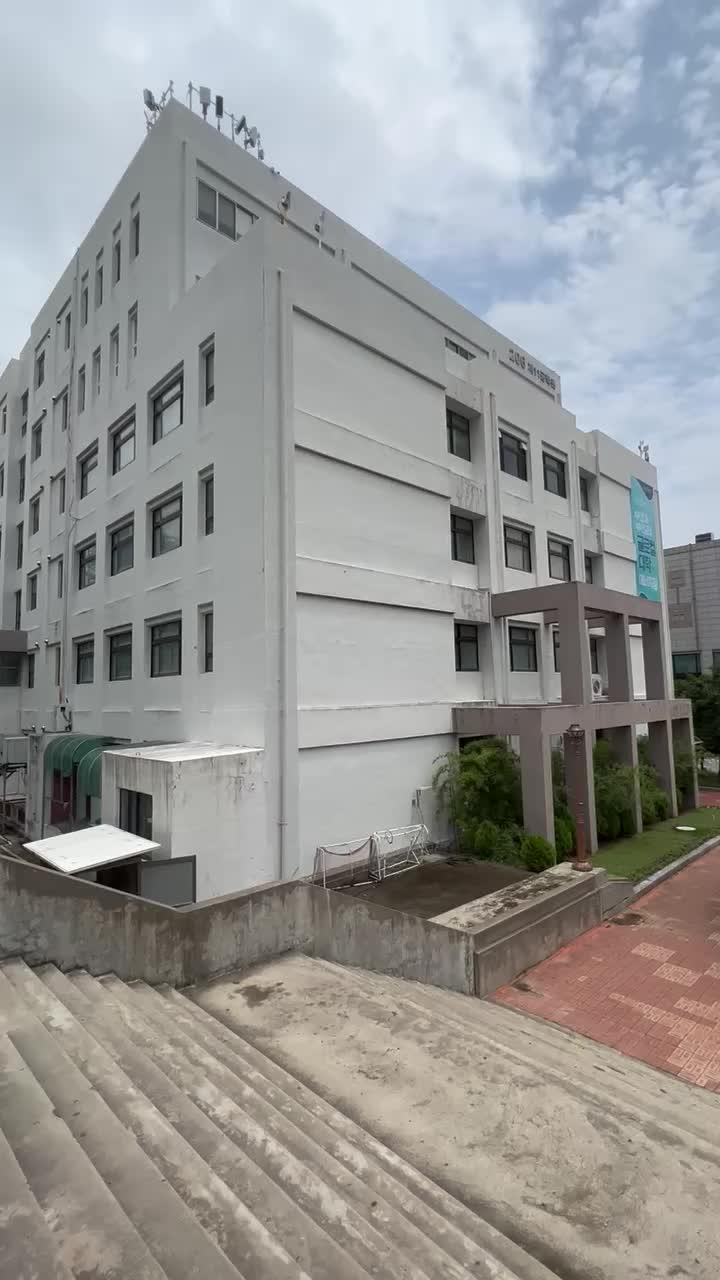building: (32, 124, 674, 832)
